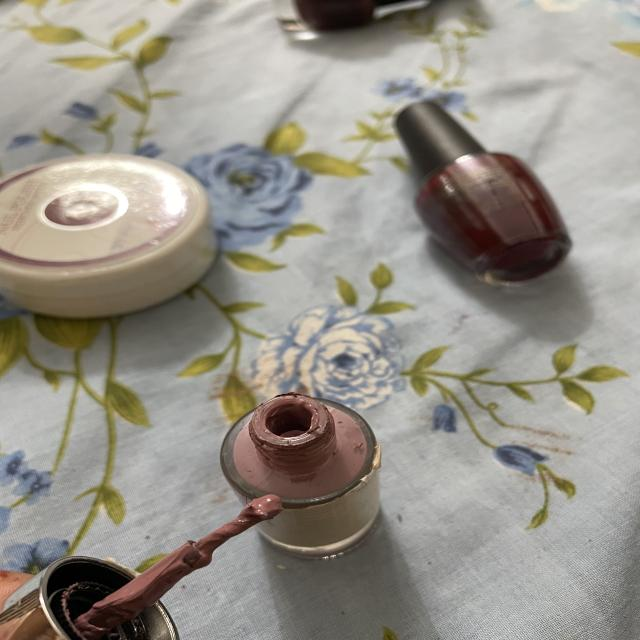nail polish: (366, 59, 595, 315), (0, 459, 310, 640), (209, 359, 405, 559)
nail polish remover: (0, 122, 221, 316)
